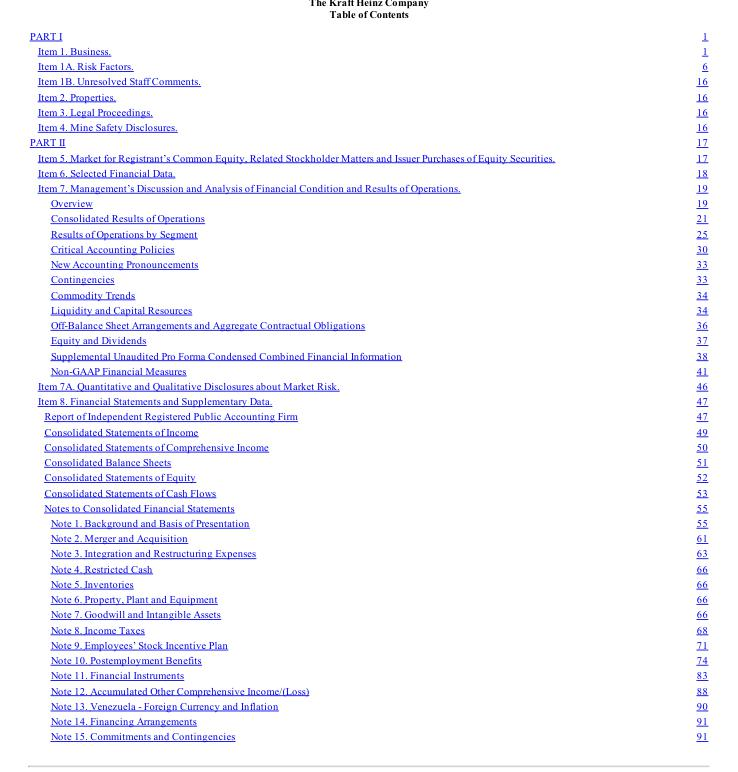table: (29, 29, 706, 741)
table column: (29, 29, 625, 741), (625, 29, 706, 741)
table row: (29, 42, 706, 58), (29, 118, 706, 134), (29, 179, 706, 195), (29, 240, 706, 256), (29, 316, 706, 332), (29, 377, 706, 393), (29, 453, 706, 469), (29, 514, 706, 530), (29, 575, 706, 591), (29, 651, 706, 667), (29, 712, 706, 728), (29, 58, 706, 73), (29, 73, 706, 88), (29, 88, 706, 103), (29, 103, 706, 118), (29, 134, 706, 149), (29, 149, 706, 164), (29, 164, 706, 179), (29, 195, 706, 210), (29, 210, 706, 225), (29, 225, 706, 240), (29, 256, 706, 271), (29, 271, 706, 286), (29, 286, 706, 301), (29, 301, 706, 316), (29, 332, 706, 347), (29, 347, 706, 362), (29, 362, 706, 377), (29, 393, 706, 408), (29, 408, 706, 423), (29, 423, 706, 438), (29, 438, 706, 453), (29, 469, 706, 484), (29, 484, 706, 499), (29, 499, 706, 514), (29, 530, 706, 545), (29, 545, 706, 560), (29, 560, 706, 575), (29, 591, 706, 606), (29, 606, 706, 621), (29, 621, 706, 636), (29, 636, 706, 651), (29, 667, 706, 682), (29, 682, 706, 697), (29, 697, 706, 712), (29, 29, 706, 42), (29, 728, 706, 741)
